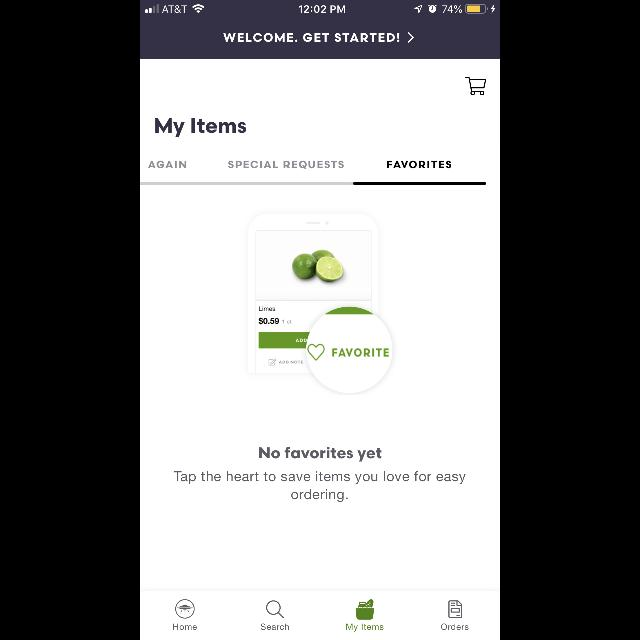icon: (466, 76, 486, 95), (266, 600, 284, 618), (448, 600, 462, 618)
image: (248, 213, 392, 393), (175, 599, 195, 619), (356, 598, 374, 620)
text: (174, 472, 466, 502), (221, 30, 413, 42), (259, 446, 381, 462), (156, 119, 247, 138), (228, 160, 344, 168), (387, 161, 451, 169), (149, 161, 187, 169), (346, 624, 384, 632), (261, 624, 289, 630), (441, 624, 469, 630), (173, 624, 197, 630)
uppertaskbar: (140, 0, 500, 14)
